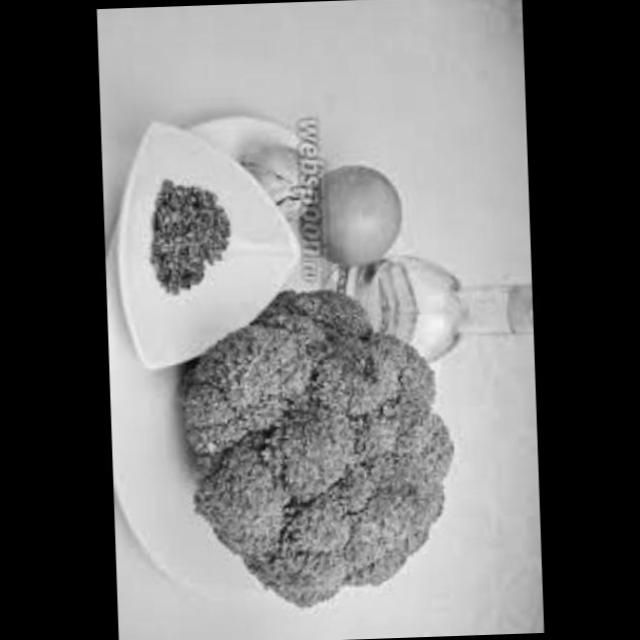broccoli: (124, 288, 463, 640)
garlic: (241, 130, 324, 232)
